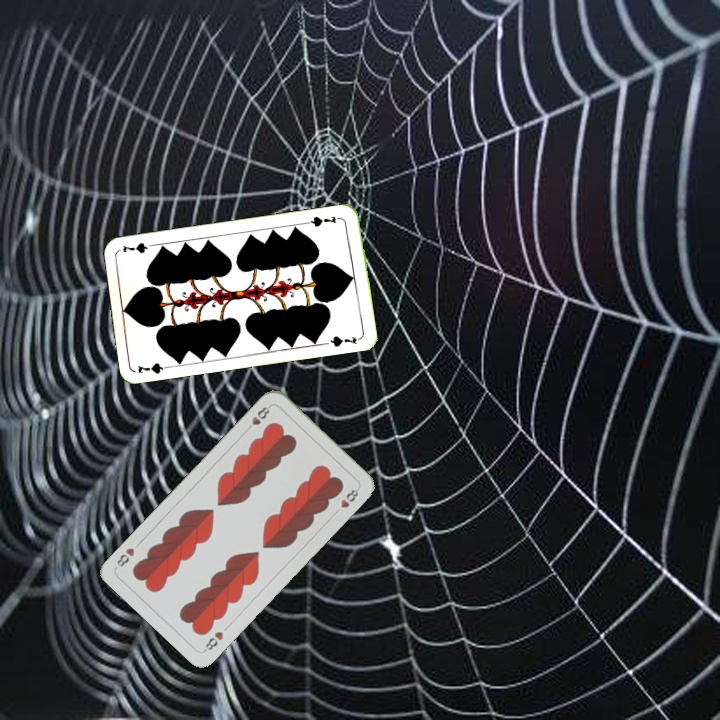G7: (303, 212, 344, 229), (134, 359, 175, 376)
H8: (242, 401, 273, 434), (200, 628, 226, 654)
